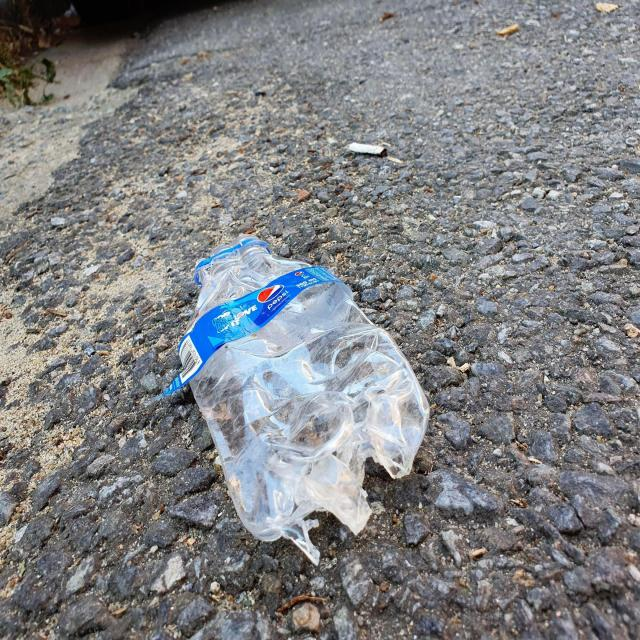plastic: (161, 236, 430, 566)
